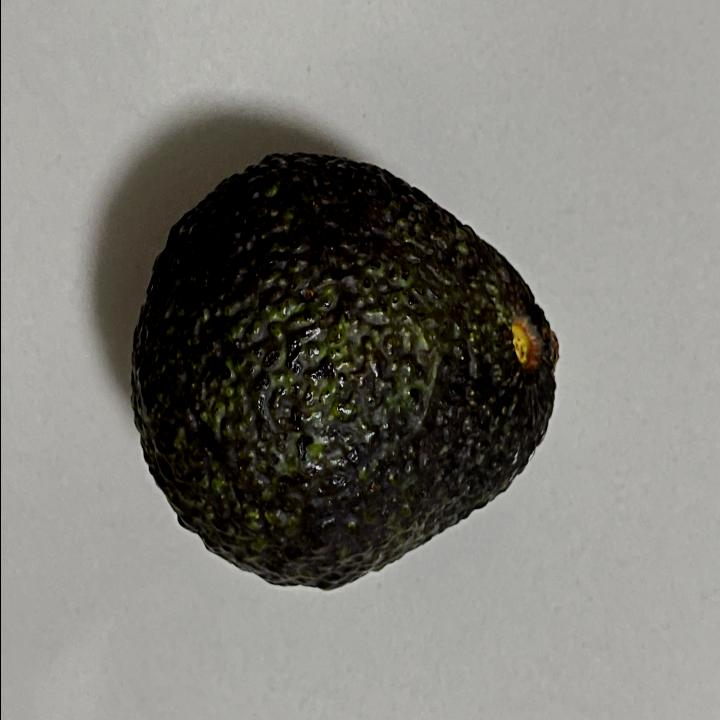Level1: (121, 126, 576, 606)
